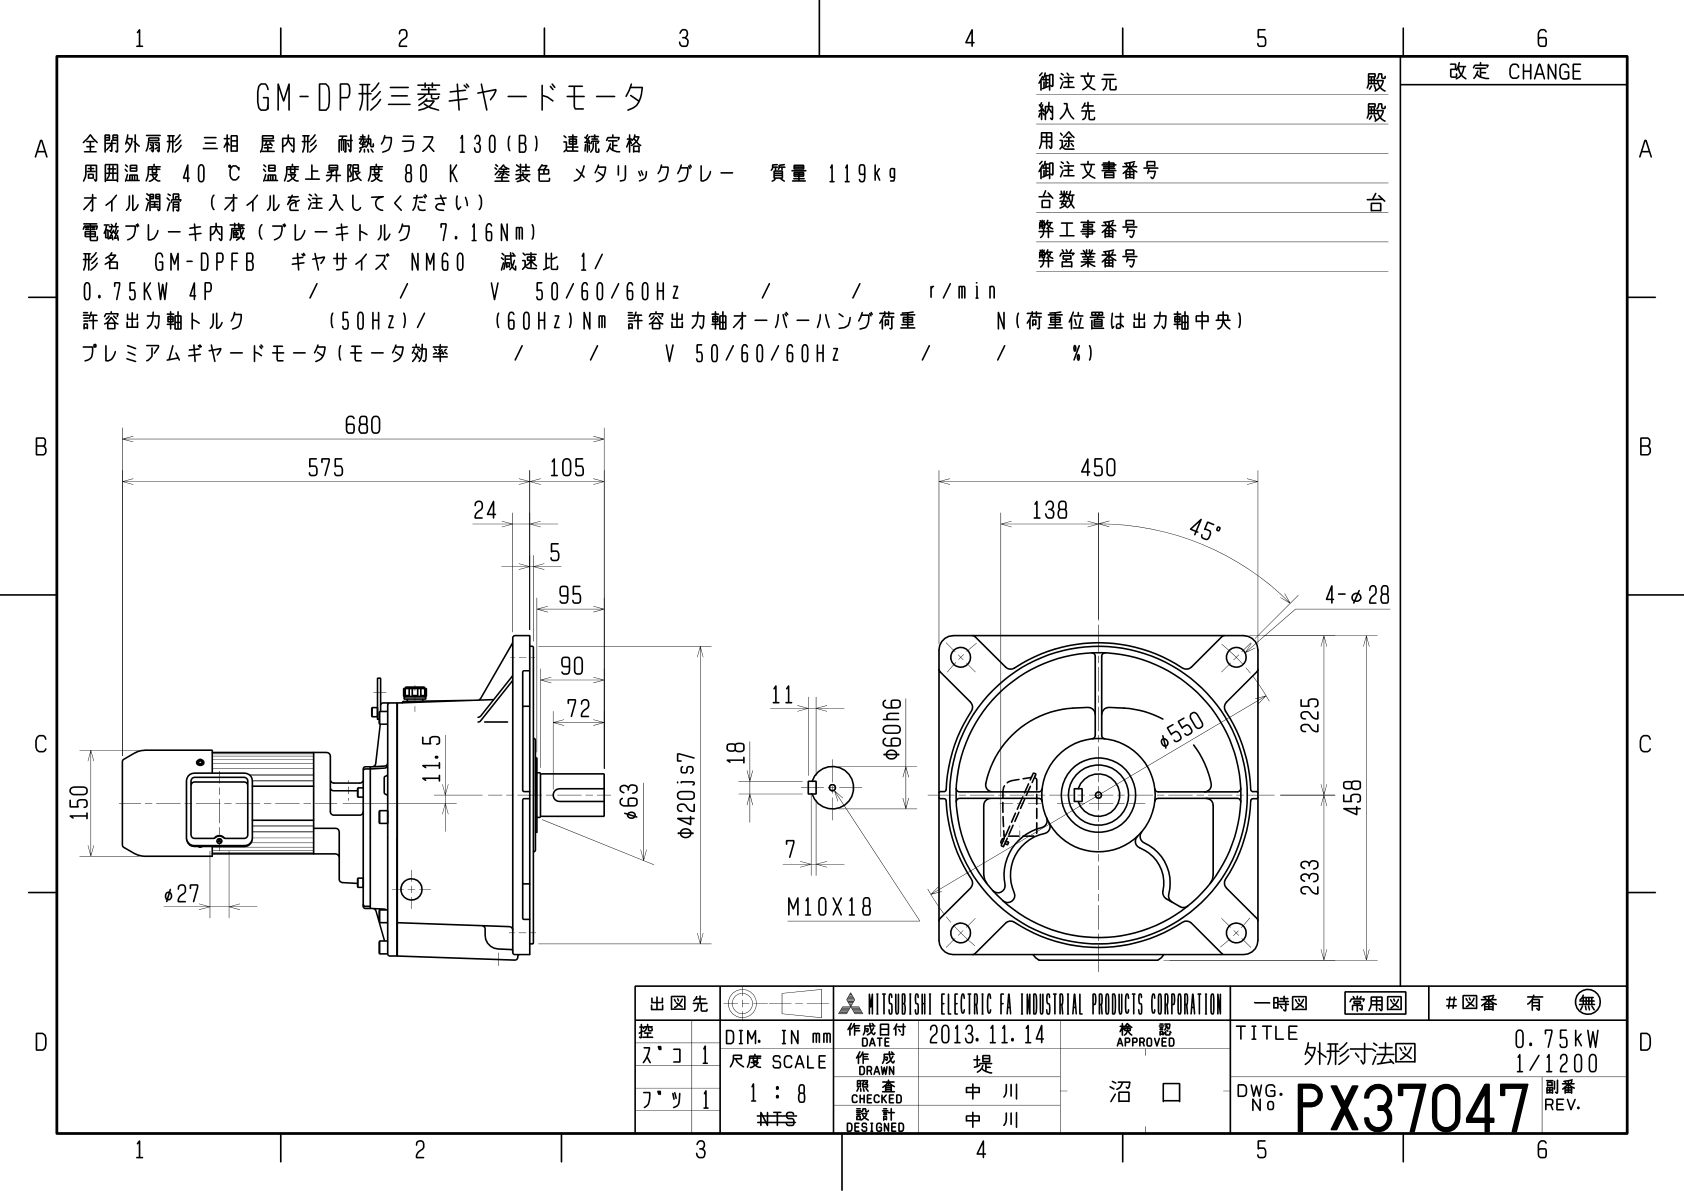GM_DP_屋内_三相_フランジ: (1, 1, 1669, 1173)
